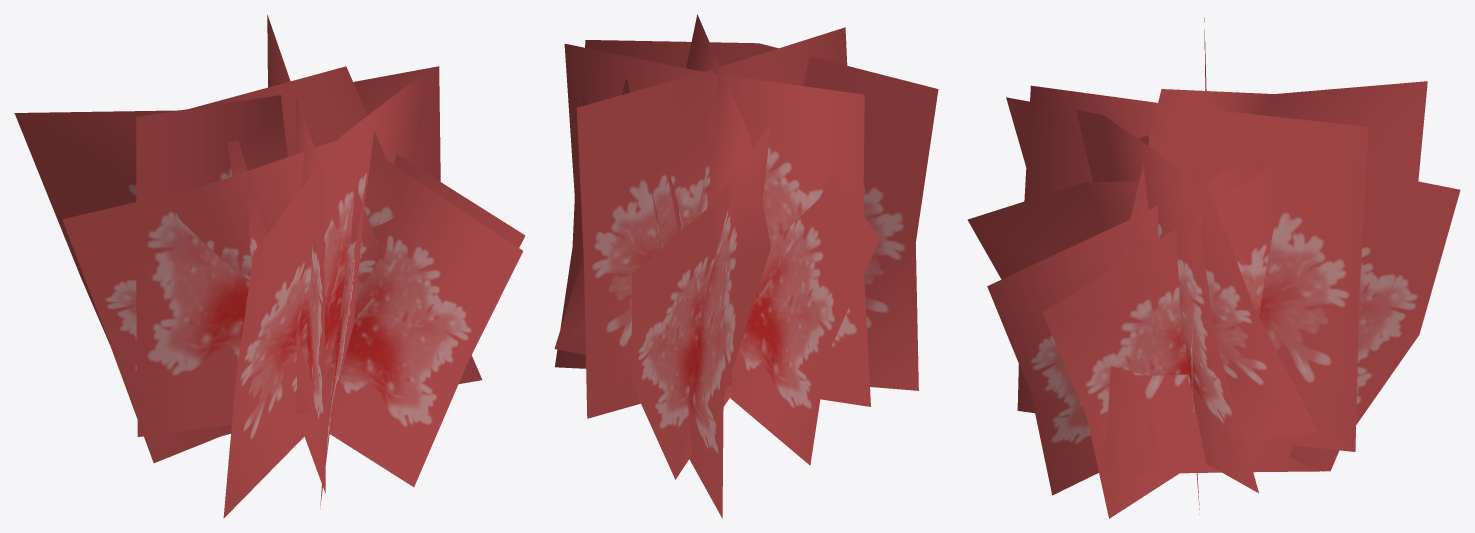
The model's file is SM_RedAlgaeA.fbx.
3 views of the same model, side by side, from view 1: azimuth 30°, elevation 25°; view 2: azimuth 150°, elevation 25°; view 3: azimuth 270°, elevation 25° (orthographic). The views are drawn at different scales.
Visible parts, largest first — view 1: SM_RedAlgaeA; view 2: SM_RedAlgaeA; view 3: SM_RedAlgaeA.
Boxes of the visible parts, left/top/right/bottom form: SM_RedAlgaeA: left=14, top=15, right=525, bottom=518; SM_RedAlgaeA: left=554, top=14, right=938, bottom=518; SM_RedAlgaeA: left=967, top=18, right=1460, bottom=518.
Bounding box in the file's own units: 52.99 × 60.11 × 61.57.
